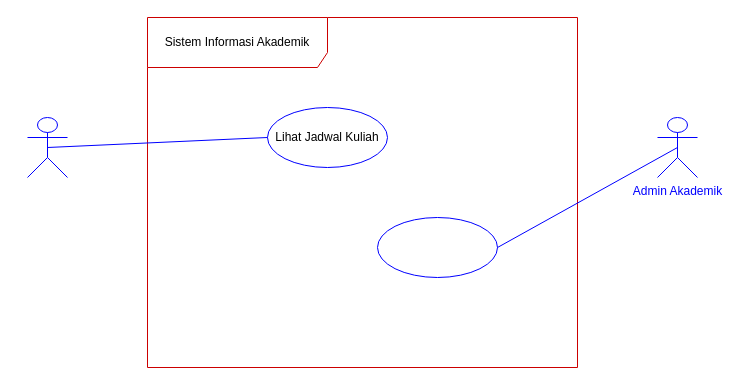
Image size: 739x385. Some labels were removed from this diagram. The box of each missing label's shape, as (x1, y1, x2, y2) in pixels:
Kelola Jadwal Kuliah: (376, 216, 498, 278)
Mahasiswa: (26, 116, 68, 178)
